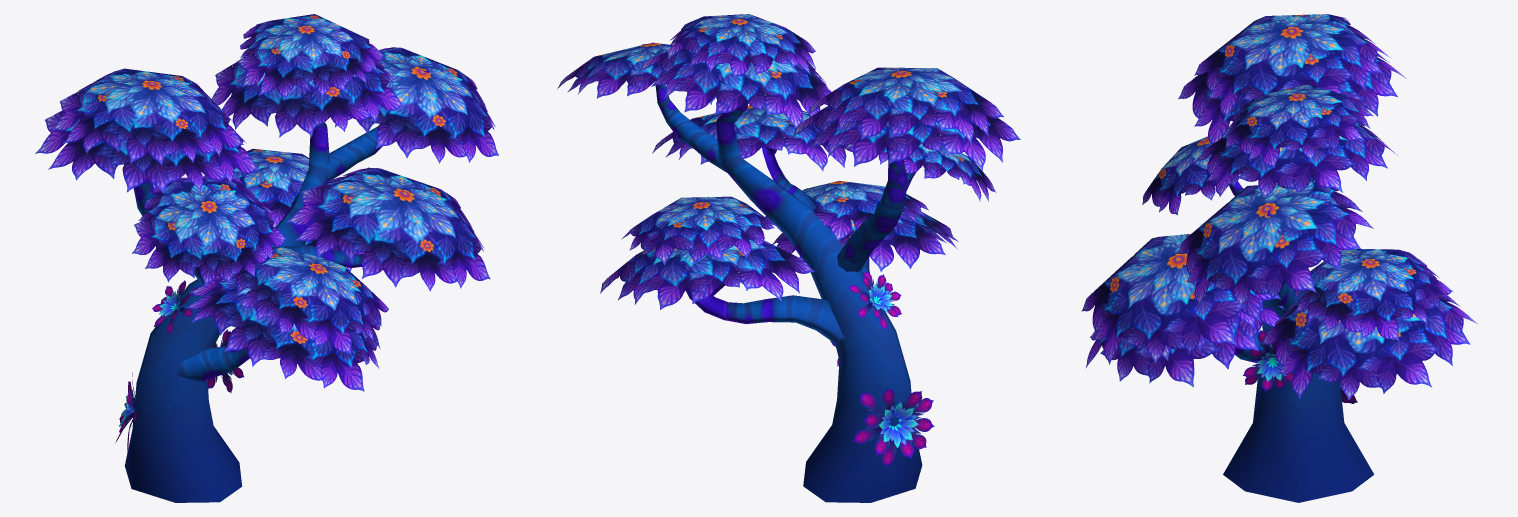
The model's file is Blue_Tree_10c.FBX.
3 views of the same model, side by side, from view 1: azimuth 30°, elevation 25°; view 2: azimuth 150°, elevation 25°; view 3: azimuth 270°, elevation 25° (orthographic). The views are drawn at different scales.
Visible parts, largest first — view 1: Blue_Tree_10c; view 2: Blue_Tree_10c; view 3: Blue_Tree_10c.
Boxes of the visible parts, bbox=[...] form: Blue_Tree_10c: bbox=[35, 14, 498, 502]; Blue_Tree_10c: bbox=[557, 14, 1020, 502]; Blue_Tree_10c: bbox=[1081, 14, 1477, 502].
Size of the model in its own units: 463 by 410 by 368.
